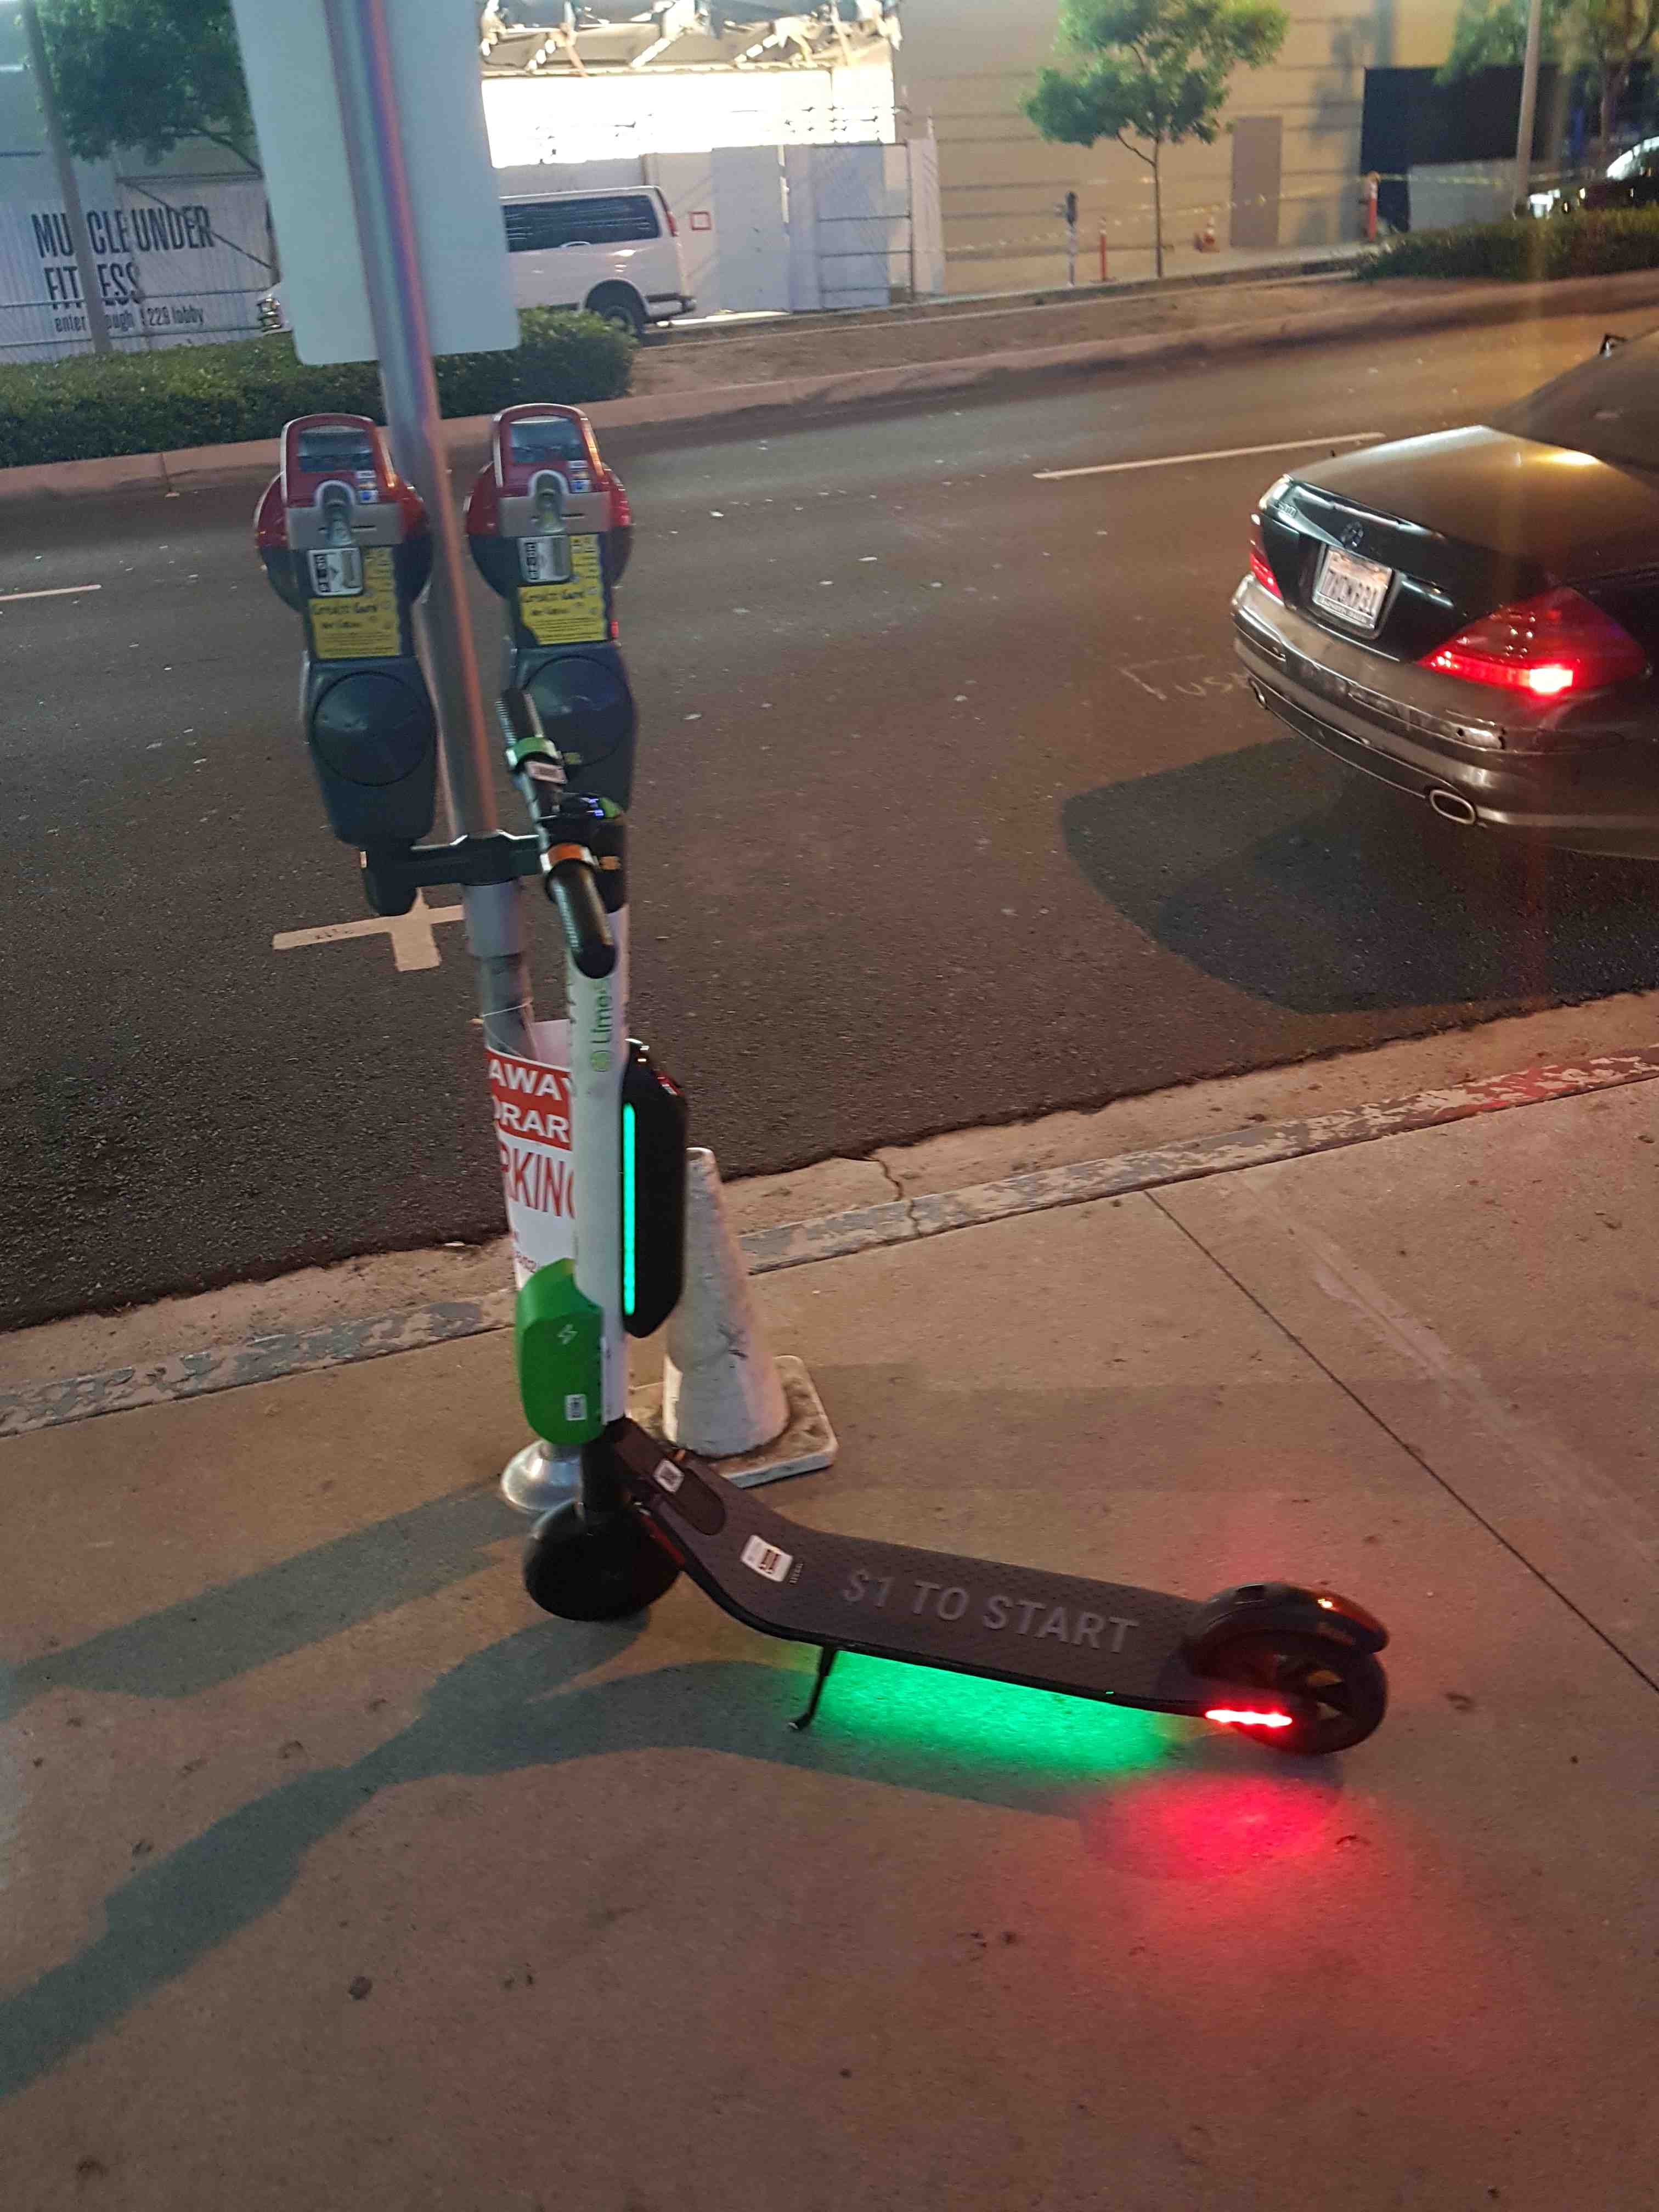scooter: (465, 665, 1431, 1804)
